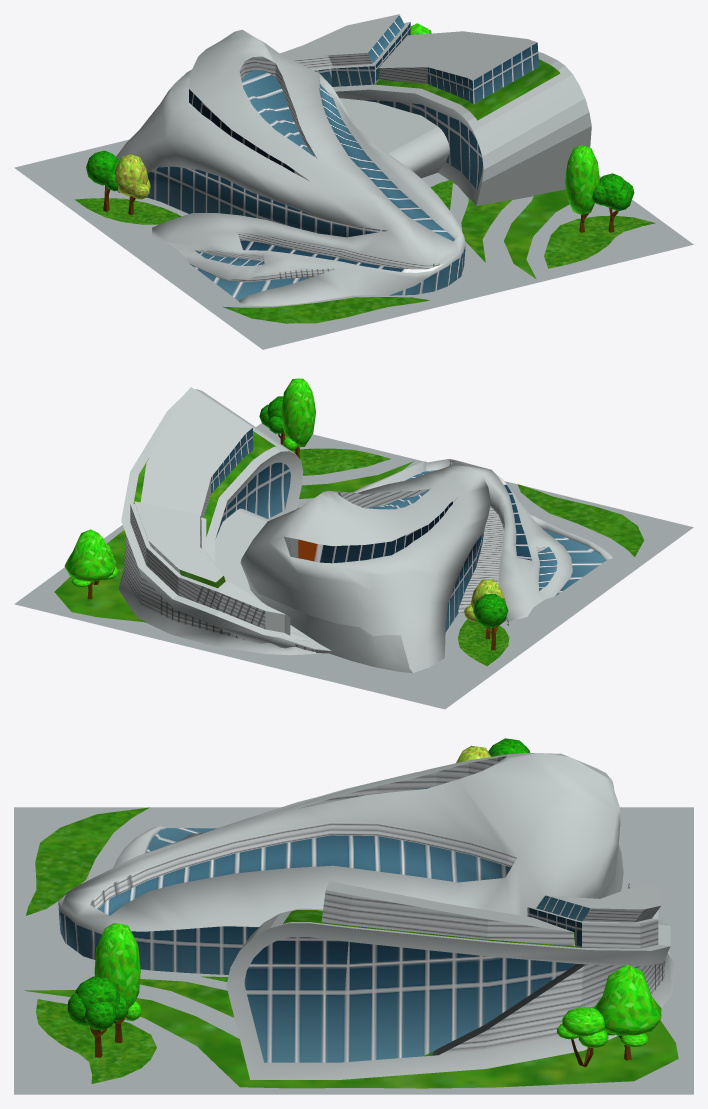
File: fashion_LV3.fbx
3 renders of one model, top to bottom at view 1: azimuth 30°, elevation 25°; view 2: azimuth 150°, elevation 25°; view 3: azimuth 270°, elevation 25°, orthographic. The views are drawn at different scales.
Visible parts, largest first — view 1: fashion level 3; view 2: fashion level 3; view 3: fashion level 3.
Part boxes in pixels (box(x1,y1,x2,y2)): fashion level 3: box(14, 14, 693, 349); fashion level 3: box(14, 378, 693, 709); fashion level 3: box(14, 738, 693, 1094).
Size of the model in its own units: 120 by 35.57 by 120.
